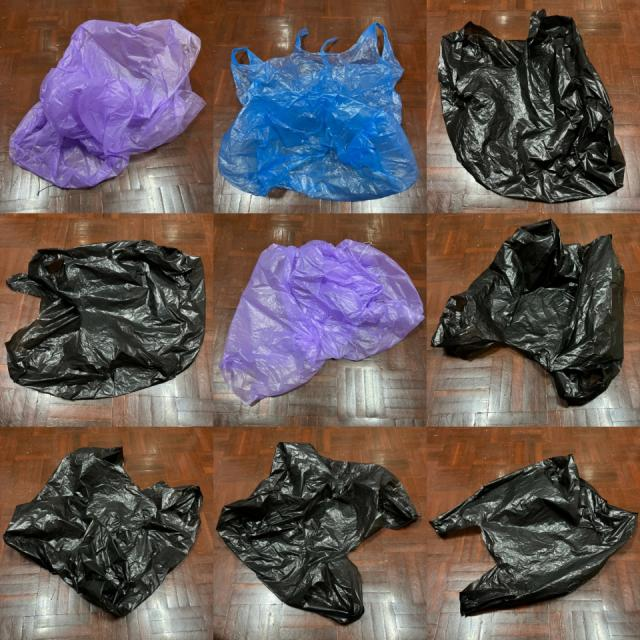Single-layer Plastic: (216, 442, 418, 624), (439, 10, 625, 202), (431, 220, 624, 404), (219, 24, 419, 201), (4, 448, 202, 616), (220, 240, 424, 403), (430, 455, 638, 614), (10, 20, 204, 188), (6, 240, 205, 399)
